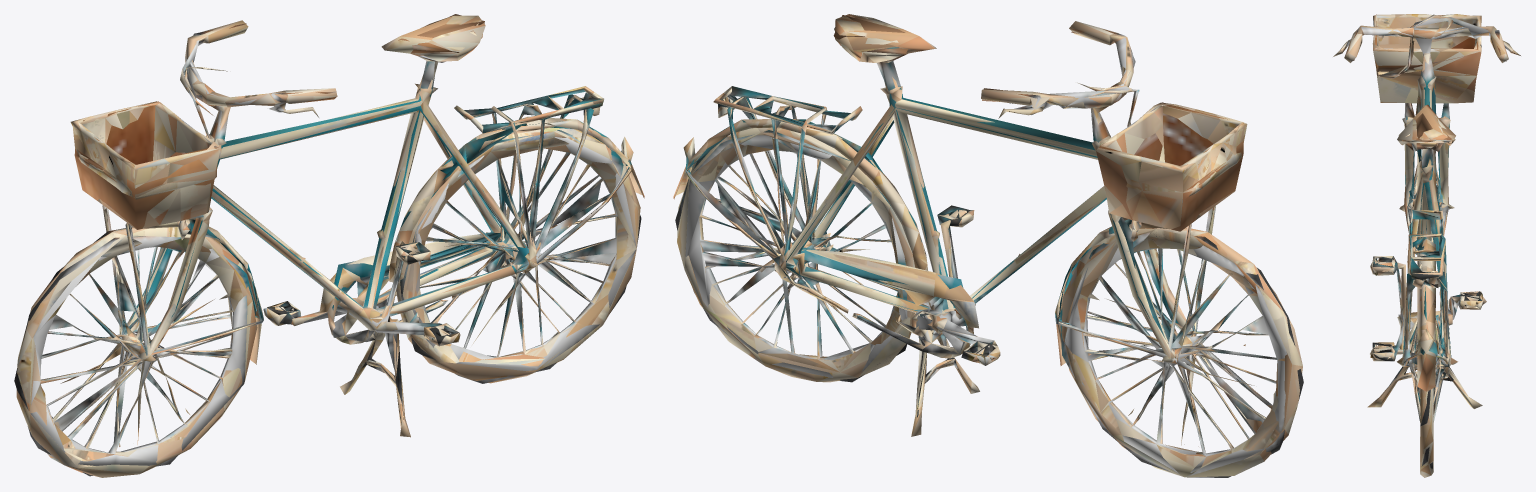
The model's file is bisiklet.fbx.
3 views of the same model, side by side, from view 1: azimuth 30°, elevation 25°; view 2: azimuth 150°, elevation 25°; view 3: azimuth 270°, elevation 25° (orthographic). The views are drawn at different scales.
Parts seen in each view (by area): view 1: Mesh_0, Mesh_0.001; view 2: Mesh_0, Mesh_0.001; view 3: Mesh_0, Mesh_0.001.
Boxes of the visible parts, x1,y1,x2,y2 form: Mesh_0: (16,15,644,477); Mesh_0.001: (14,14,641,476); Mesh_0: (673,14,1302,477); Mesh_0.001: (675,15,1303,477); Mesh_0: (1333,14,1520,477); Mesh_0.001: (1345,14,1510,469).
Size of the model in its own units: 201 by 117 by 62.
